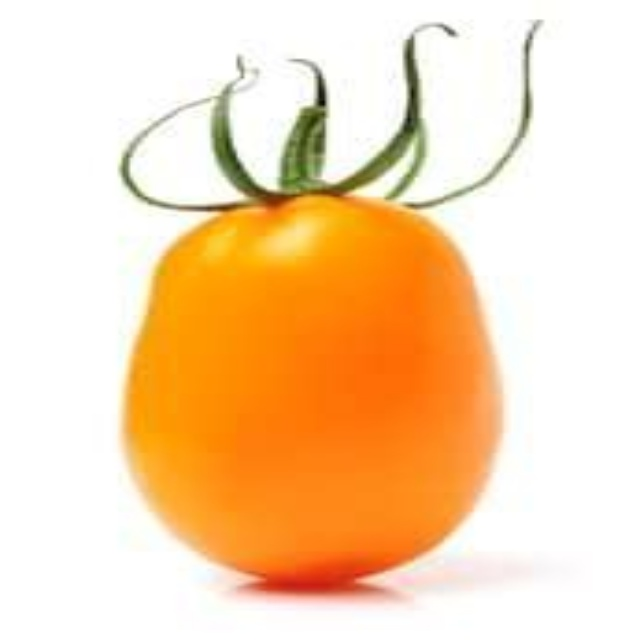tomato: (110, 60, 517, 591)
